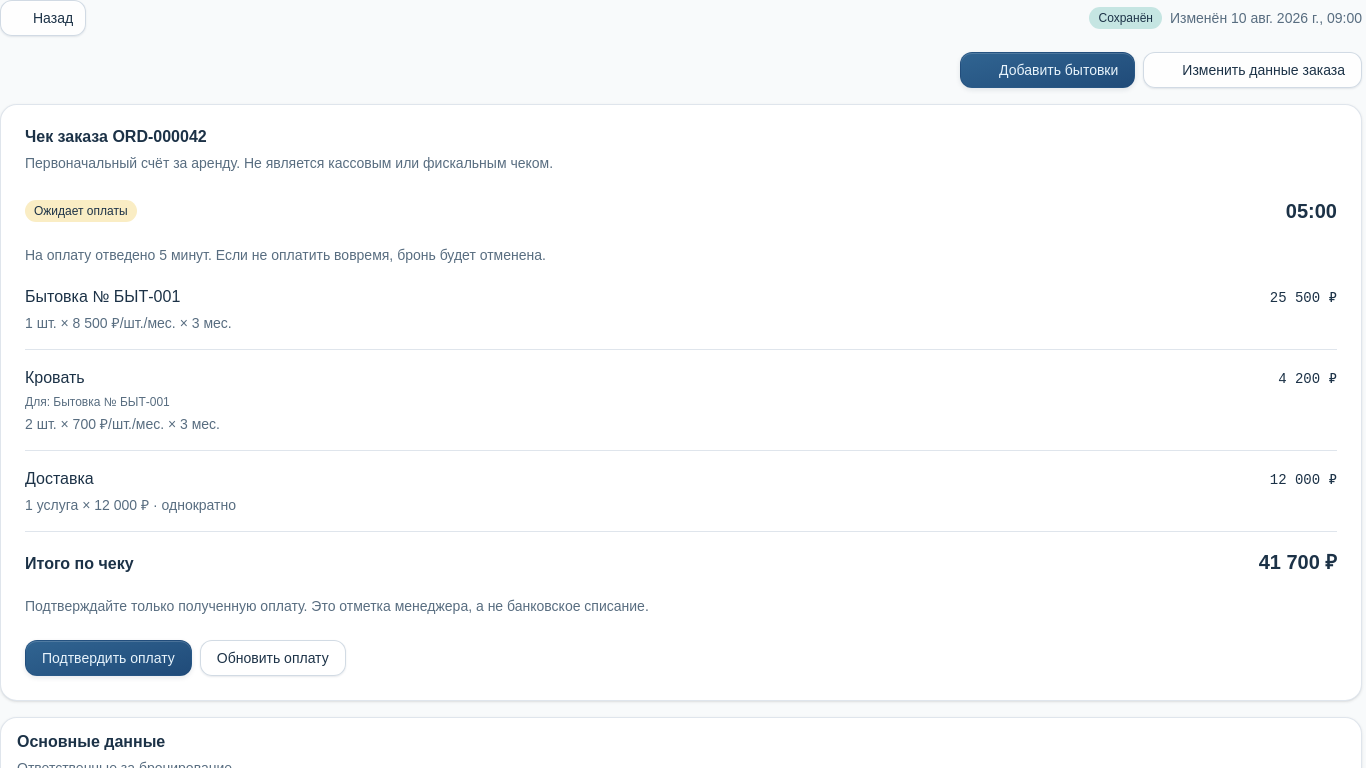
Test: OrderDetailPage cabin entry › keeps the same command identity after an uncertain response and never retries confirmation automatically
The width and height of the screenshot is (1366, 768).
Step 1. Click the button "Подтвердить оплату" → point(108, 658), box [25,640,192,676]
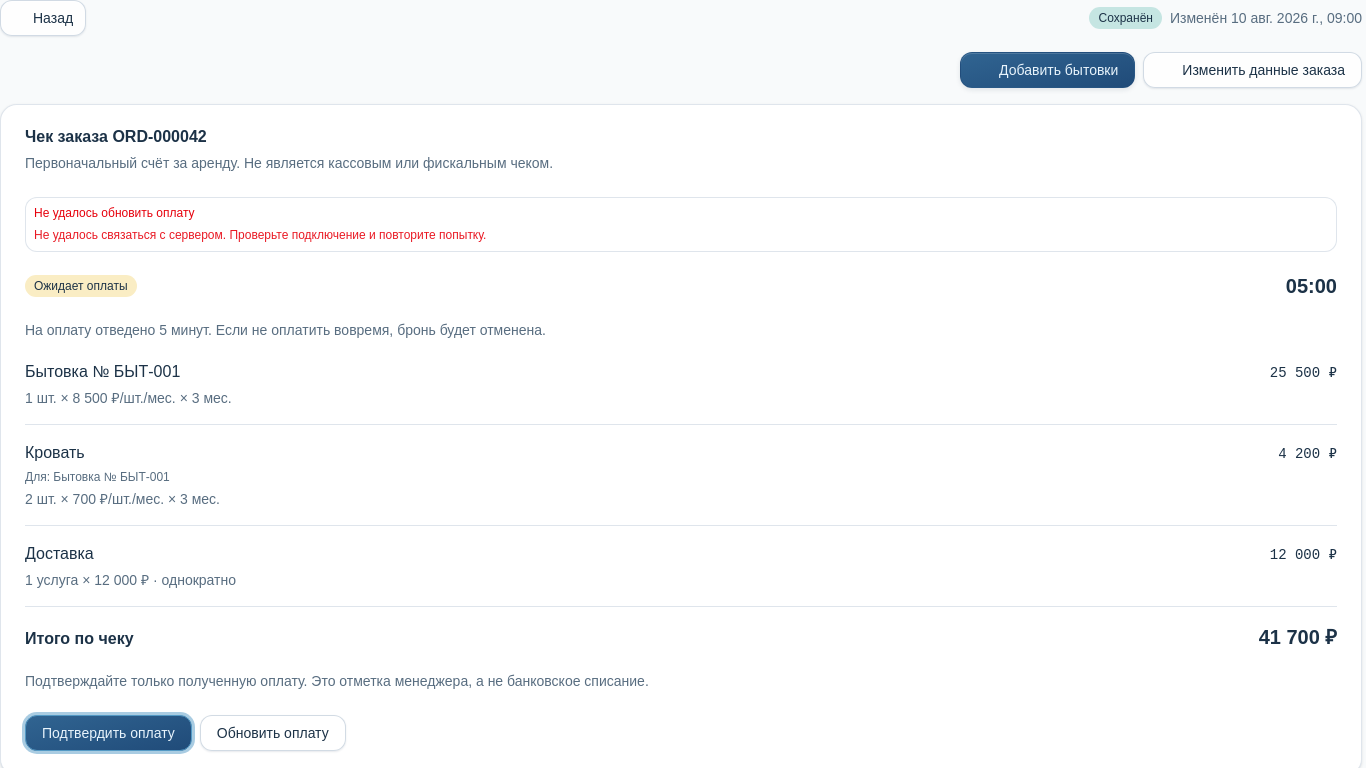
Step 2. Click the button "Подтвердить оплату" → point(108, 733), box [25,715,192,751]
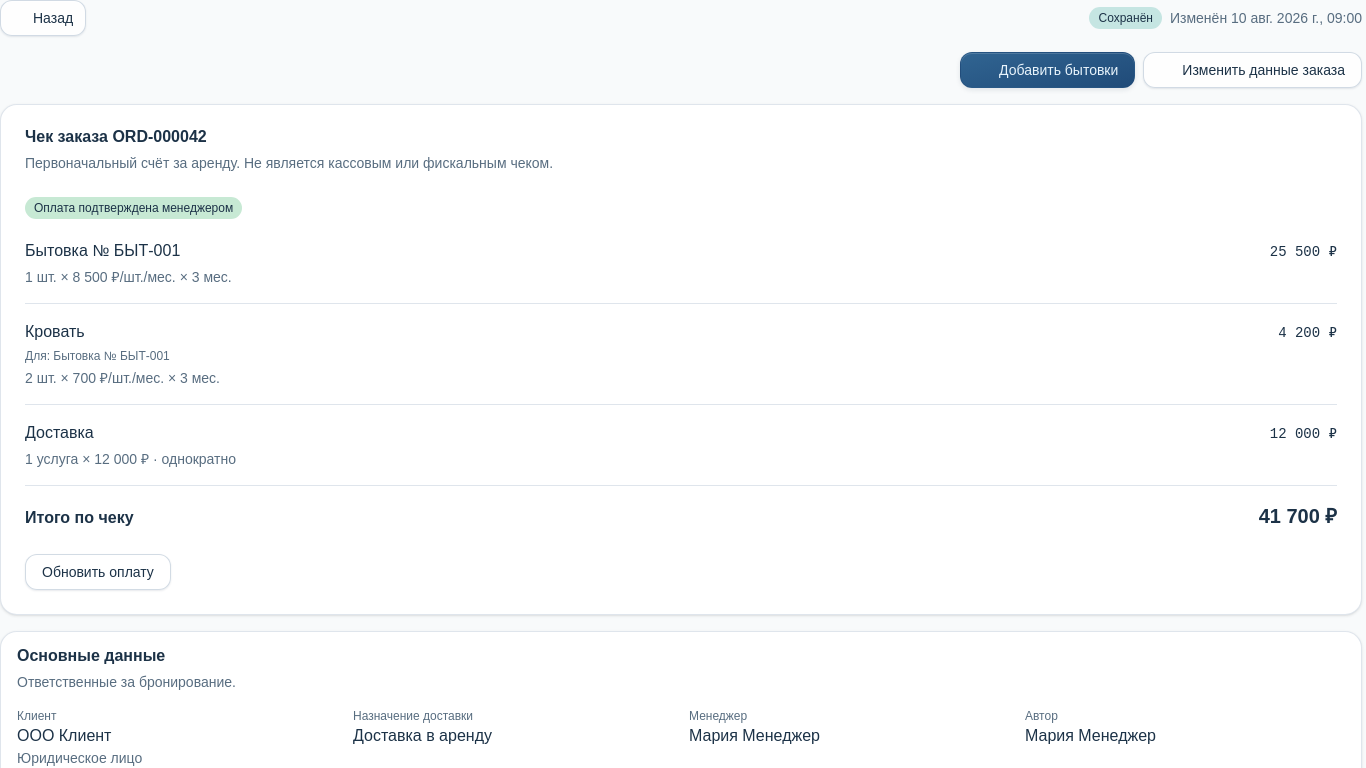
Result: the text "Оплата подтверждена менеджером" is shown at [25,197,242,219]
